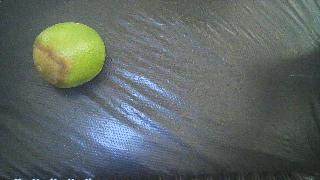DESECHO: (33, 22, 106, 88)
